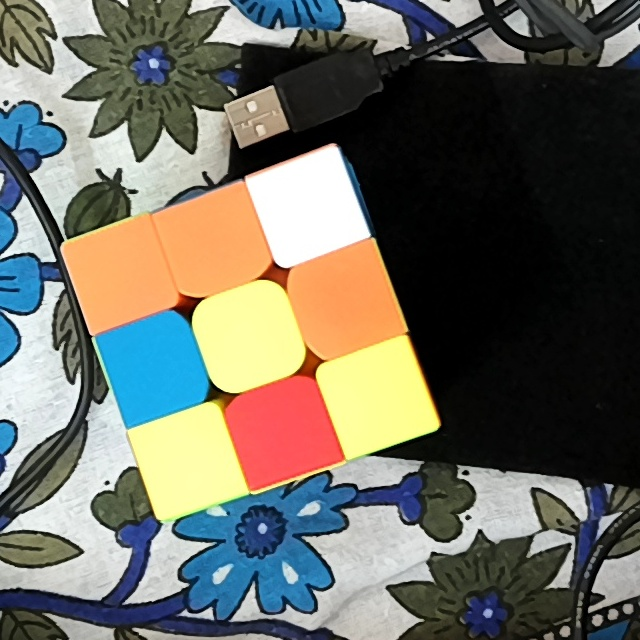tile: (118, 330, 190, 405), (212, 300, 288, 371), (151, 424, 225, 495), (337, 363, 411, 434), (311, 263, 381, 336), (178, 208, 249, 278), (247, 396, 317, 467), (273, 173, 343, 242), (85, 239, 153, 310)
